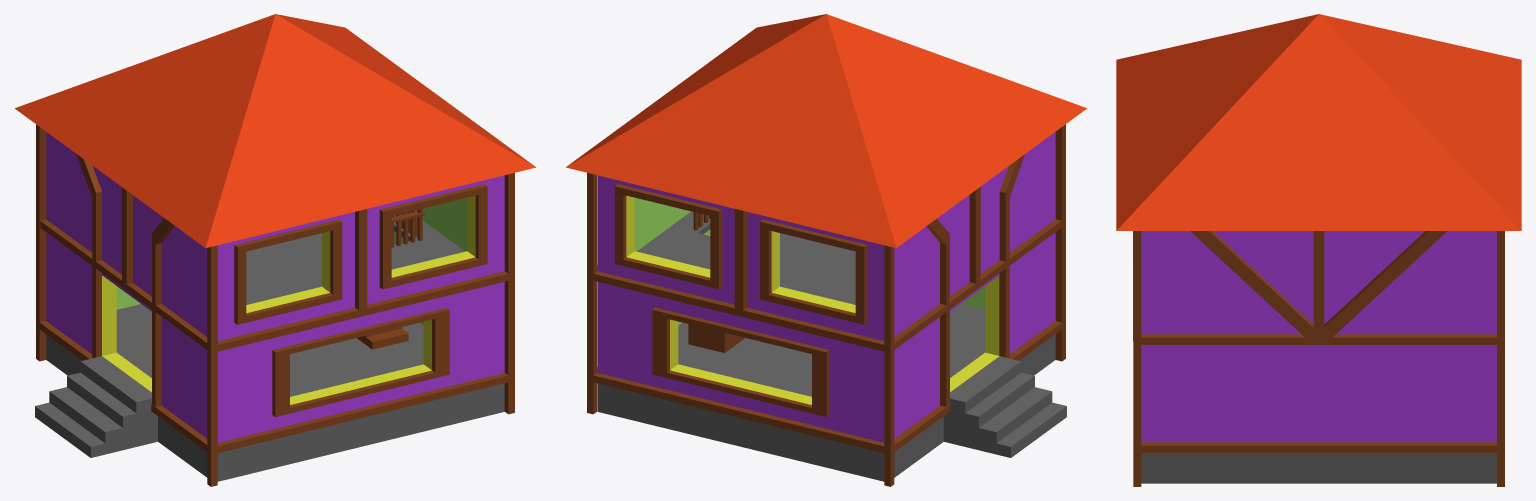
File: smallerhouse.fbx
3 renders of one model, left to right at view 1: azimuth 30°, elevation 25°; view 2: azimuth 150°, elevation 25°; view 3: azimuth 270°, elevation 25°, orthographic. The views are drawn at different scales.
Visible parts, largest first — view 1: roof, outerwalls, woodenpieces, windows, foundation, stairs, firstflor, secondfloor, innerwindowparts, innerwalls, railingupstairs, insidestarirs; view 2: roof, outerwalls, woodenpieces, windows, foundation, stairs, firstflor, secondfloor, innerwindowparts, innerwalls, insidestarirs; view 3: roof, outerwalls, woodenpieces, foundation.
Boxes of the visible parts, left/top/right/bottom form: roof: left=15, top=14, right=536, bottom=248; outerwalls: left=46, top=132, right=504, bottom=442; woodenpieces: left=36, top=45, right=514, bottom=486; windows: left=234, top=184, right=487, bottom=416; foundation: left=46, top=334, right=504, bottom=481; stairs: left=35, top=356, right=157, bottom=457; firstflor: left=116, top=304, right=423, bottom=396; secondfloor: left=246, top=212, right=464, bottom=304; innerwindowparts: left=102, top=195, right=475, bottom=404; innerwalls: left=116, top=198, right=467, bottom=325; railingupstairs: left=391, top=208, right=425, bottom=247; insidestarirs: left=357, top=327, right=408, bottom=349; roof: left=566, top=14, right=1086, bottom=247; outerwalls: left=597, top=132, right=1055, bottom=442; woodenpieces: left=587, top=45, right=1065, bottom=486; windows: left=614, top=184, right=867, bottom=416; foundation: left=597, top=334, right=1055, bottom=481; stairs: left=943, top=356, right=1066, bottom=457; firstflor: left=678, top=304, right=984, bottom=396; secondfloor: left=637, top=211, right=855, bottom=304; innerwindowparts: left=626, top=195, right=999, bottom=404; innerwalls: left=634, top=197, right=984, bottom=325; insidestarirs: left=688, top=324, right=744, bottom=352; roof: left=1116, top=14, right=1521, bottom=230; outerwalls: left=1141, top=231, right=1496, bottom=442; woodenpieces: left=1133, top=212, right=1504, bottom=486; foundation: left=1141, top=453, right=1496, bottom=483.
Bounding box in the file's own units: 3511 × 3300 × 3074.
